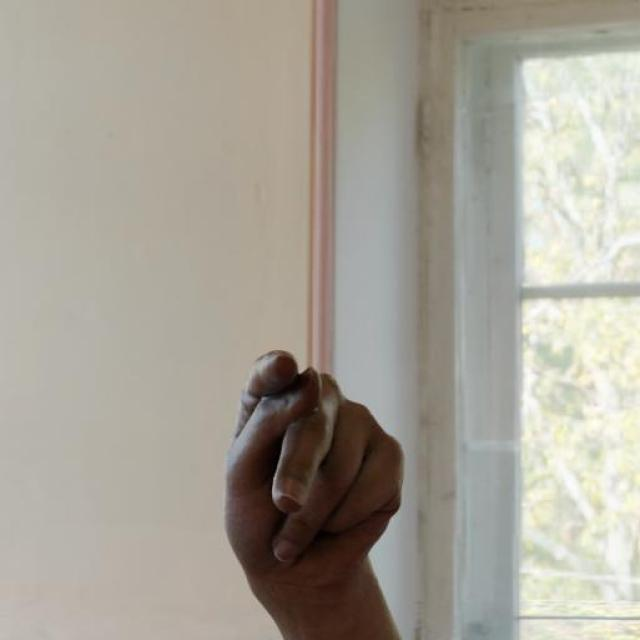P: (221, 346, 408, 593)
